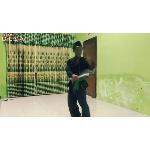Celurit: (70, 66, 99, 84)
